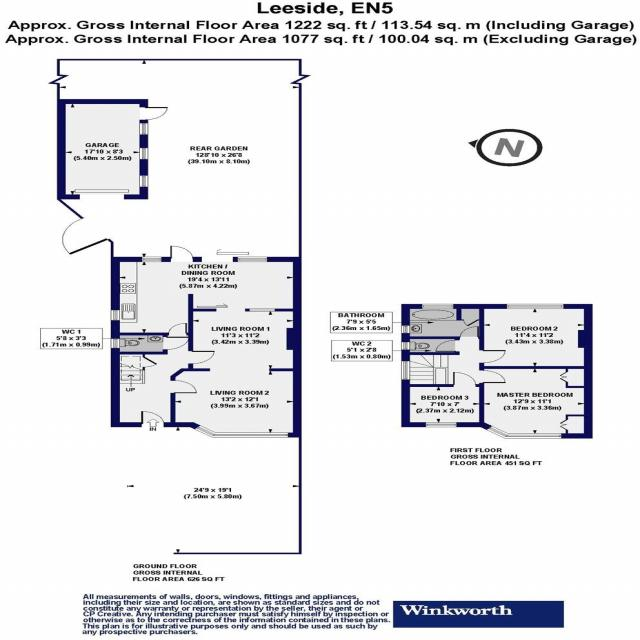DOOR: (186, 350, 216, 365), (162, 336, 189, 351), (171, 380, 198, 394), (141, 410, 166, 425), (170, 245, 195, 260), (453, 371, 476, 387), (479, 370, 506, 383), (479, 350, 506, 363), (164, 321, 187, 336), (434, 340, 460, 352), (459, 326, 479, 338)
ROOM: (110, 245, 303, 335), (170, 308, 303, 438), (479, 366, 592, 438), (478, 303, 594, 369), (401, 372, 485, 427)
WINDOW: (194, 425, 288, 438), (487, 426, 563, 439), (506, 303, 564, 309), (422, 303, 454, 309), (401, 361, 411, 379), (426, 422, 458, 427), (143, 256, 162, 262), (238, 257, 266, 261), (110, 310, 120, 320), (401, 341, 411, 350), (401, 325, 412, 333)
